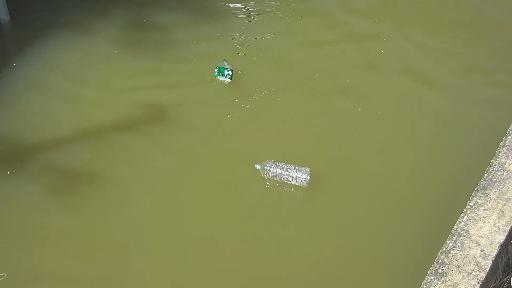plastic: (236, 149, 319, 197), (209, 52, 244, 102)
